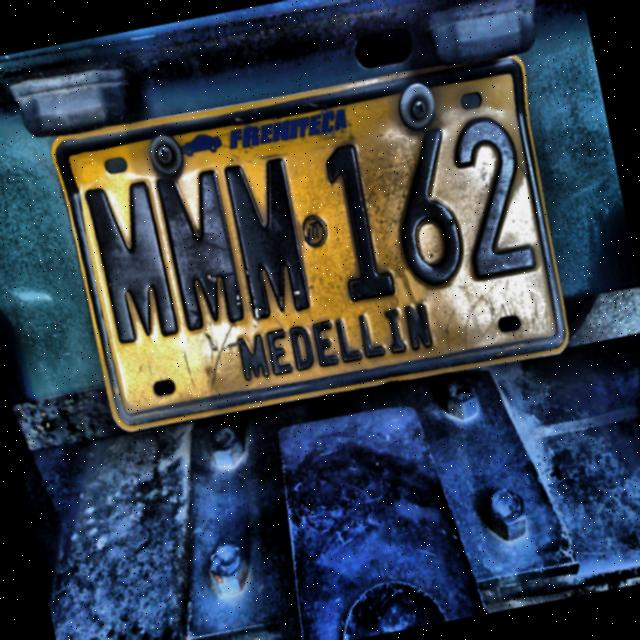plate: (49, 53, 571, 433)
